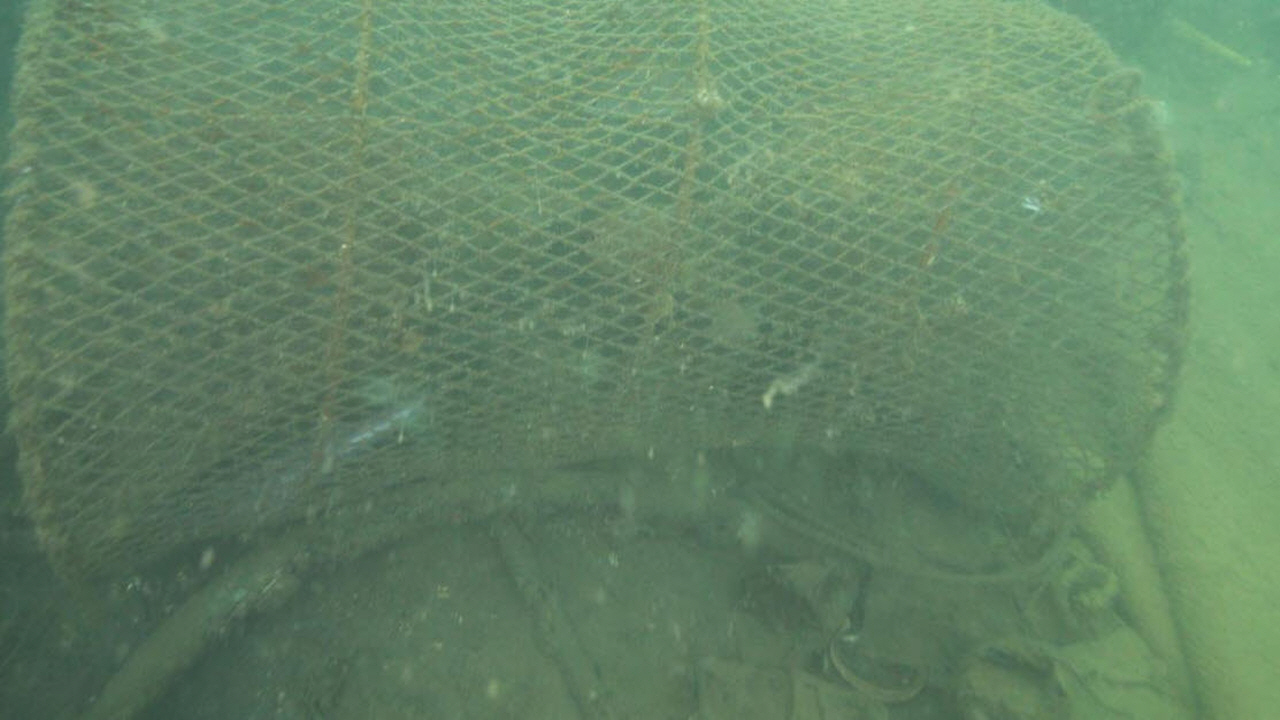spring fish trap: (0, 0, 1192, 594)
